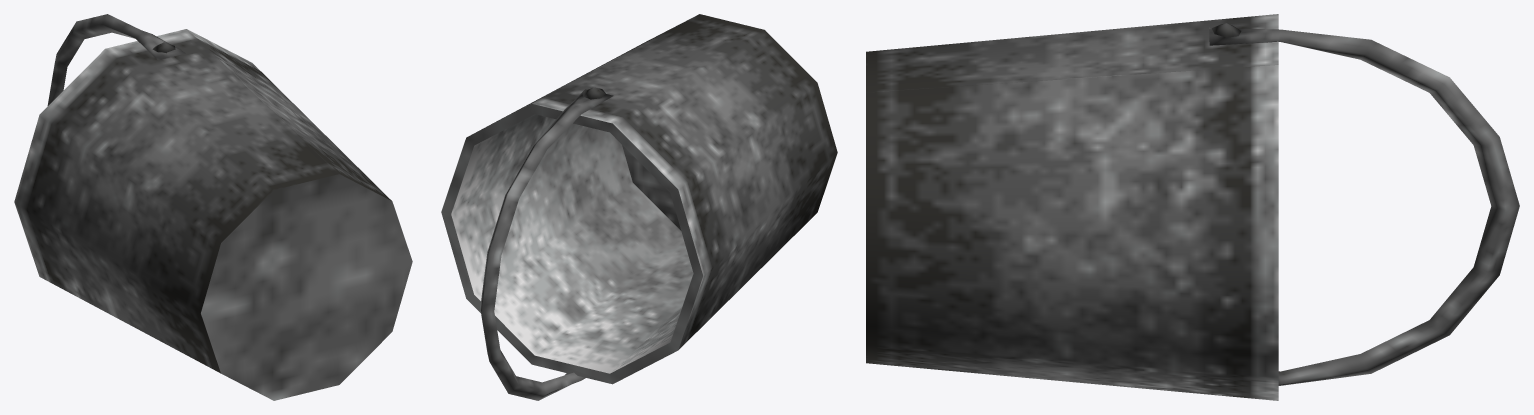
The model's file is Bucket_Forged_Hand.fbx.
The picture shows the model from 3 angles, left to right: view 1: azimuth 30°, elevation 25°; view 2: azimuth 150°, elevation 25°; view 3: azimuth 270°, elevation 25°; orthographic projection. The views are drawn at different scales.
Visible parts, largest first — view 1: Bucket_Forged; view 2: Bucket_Forged; view 3: Bucket_Forged.
Boxes of the visible parts, x1,y1,x2,y2 form: Bucket_Forged: [14, 14, 412, 400]; Bucket_Forged: [441, 14, 837, 400]; Bucket_Forged: [866, 14, 1519, 400].
Size of the model in its own units: 0.1749 by 0.1819 by 0.2932.
